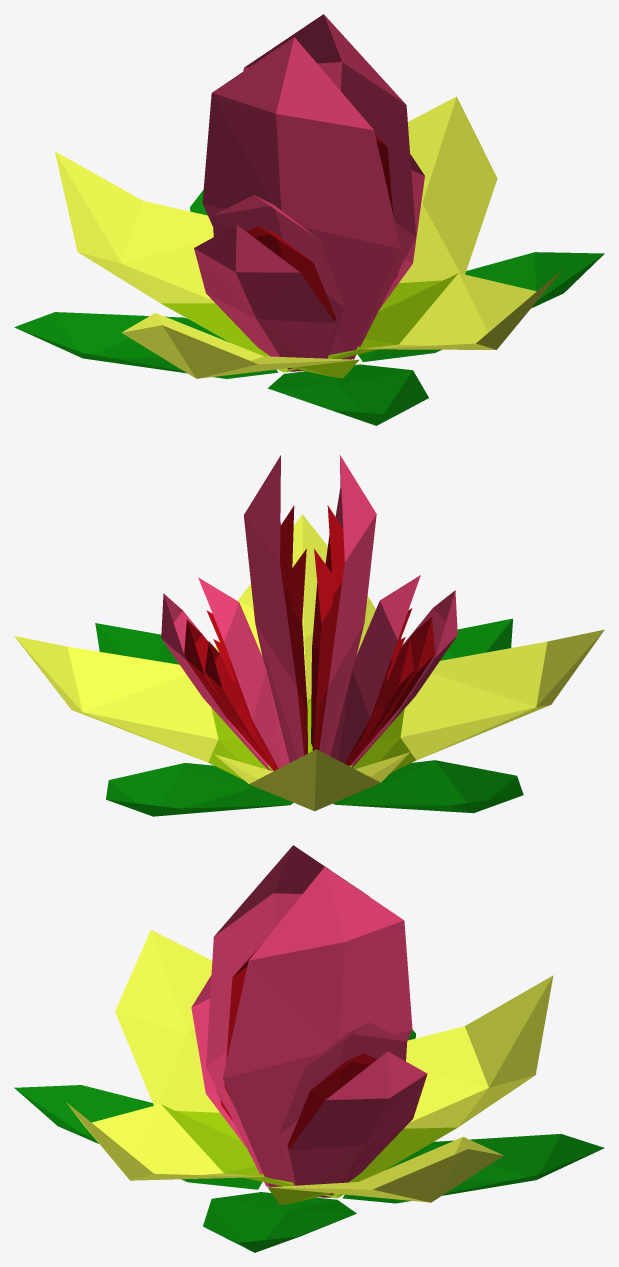
Rendered from SM_AlienBloom_Large.fbx.
3 views of the same model, one above another, from view 1: azimuth 30°, elevation 25°; view 2: azimuth 150°, elevation 25°; view 3: azimuth 270°, elevation 25° (orthographic). The views are drawn at different scales.
Parts seen in each view (by area): view 1: SM_AlienBloom_Large; view 2: SM_AlienBloom_Large; view 3: SM_AlienBloom_Large.
Boxes of the visible parts, <box> form: SM_AlienBloom_Large: <box>14,14,604,425</box>; SM_AlienBloom_Large: <box>14,454,604,816</box>; SM_AlienBloom_Large: <box>14,845,604,1252</box>.
Bounding box in the file's own units: 76.54 × 46.75 × 76.54.
